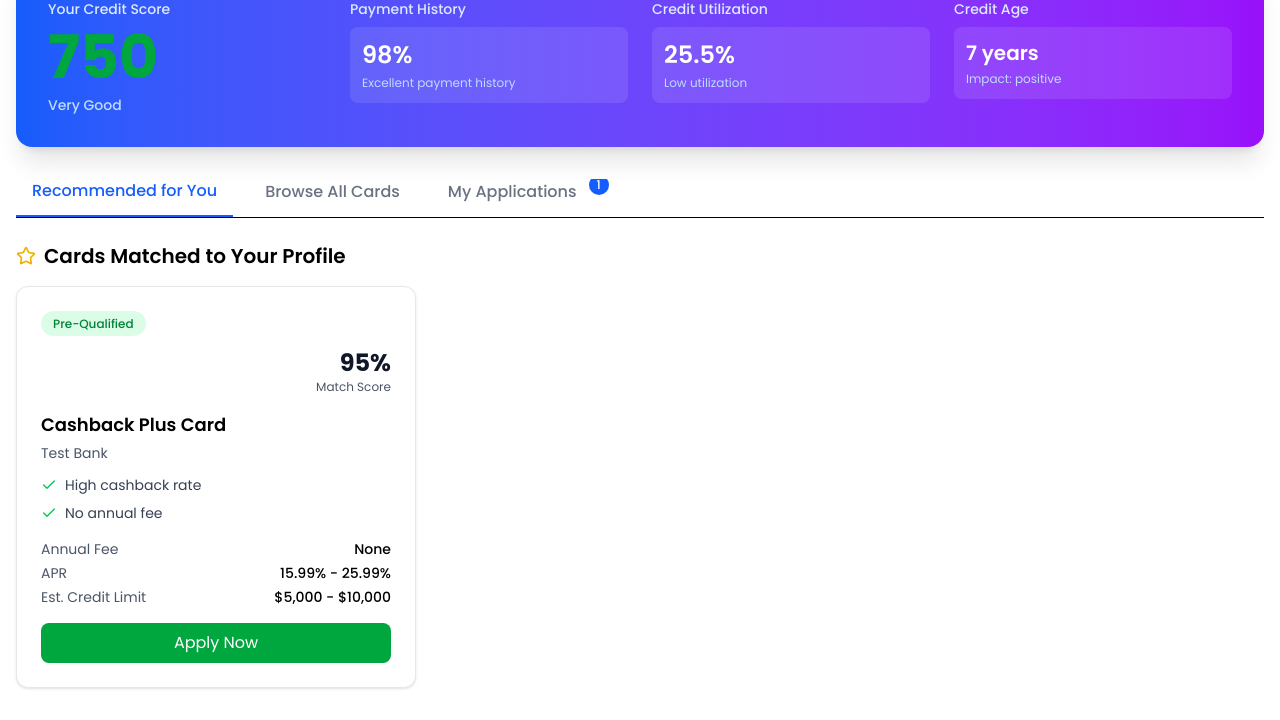
Test: CreditCardsPage › application modal opens and closes
The width and height of the screenshot is (1280, 720).
(page scrolled)
Click the button "Apply Now" at (216, 643), box left=41, top=623, right=391, bottom=663
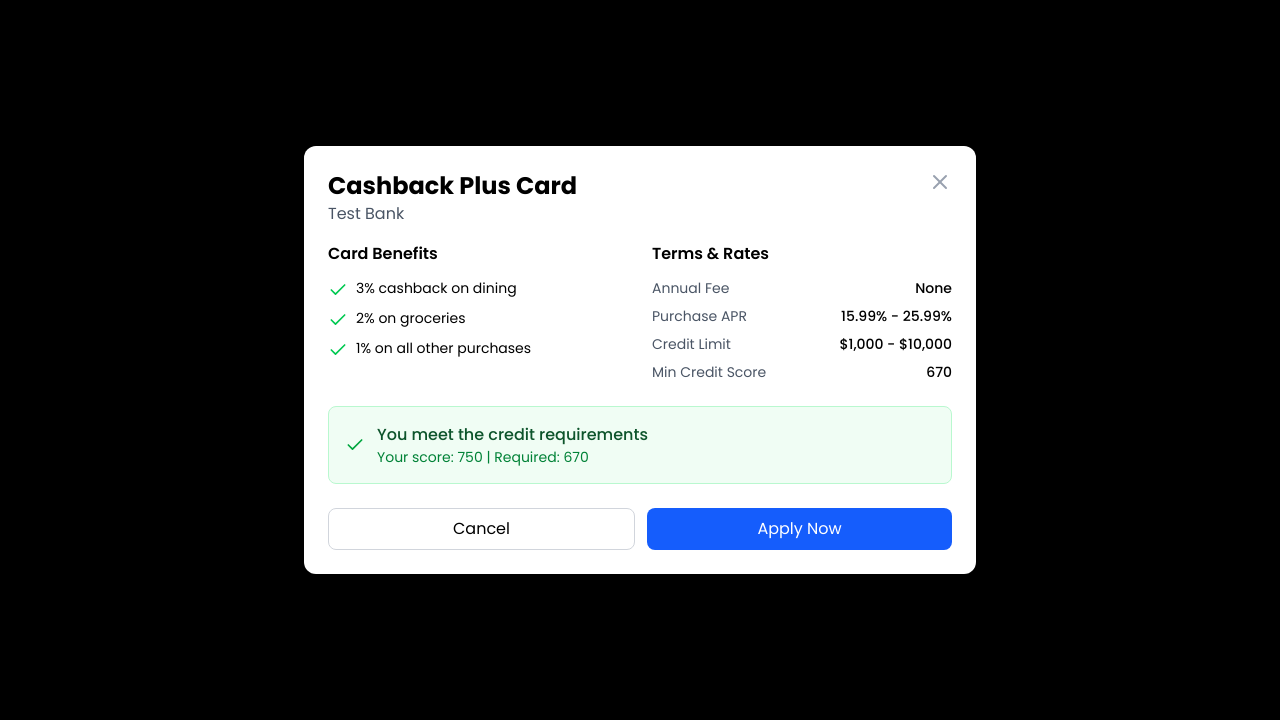
Now the heading "Card Benefits" is shown, box left=328, top=242, right=438, bottom=265
Now the heading "Terms & Rates" is shown, box left=652, top=242, right=769, bottom=265
# Close modal
Click the button "Cancel" at (482, 529), box left=328, top=508, right=635, bottom=550
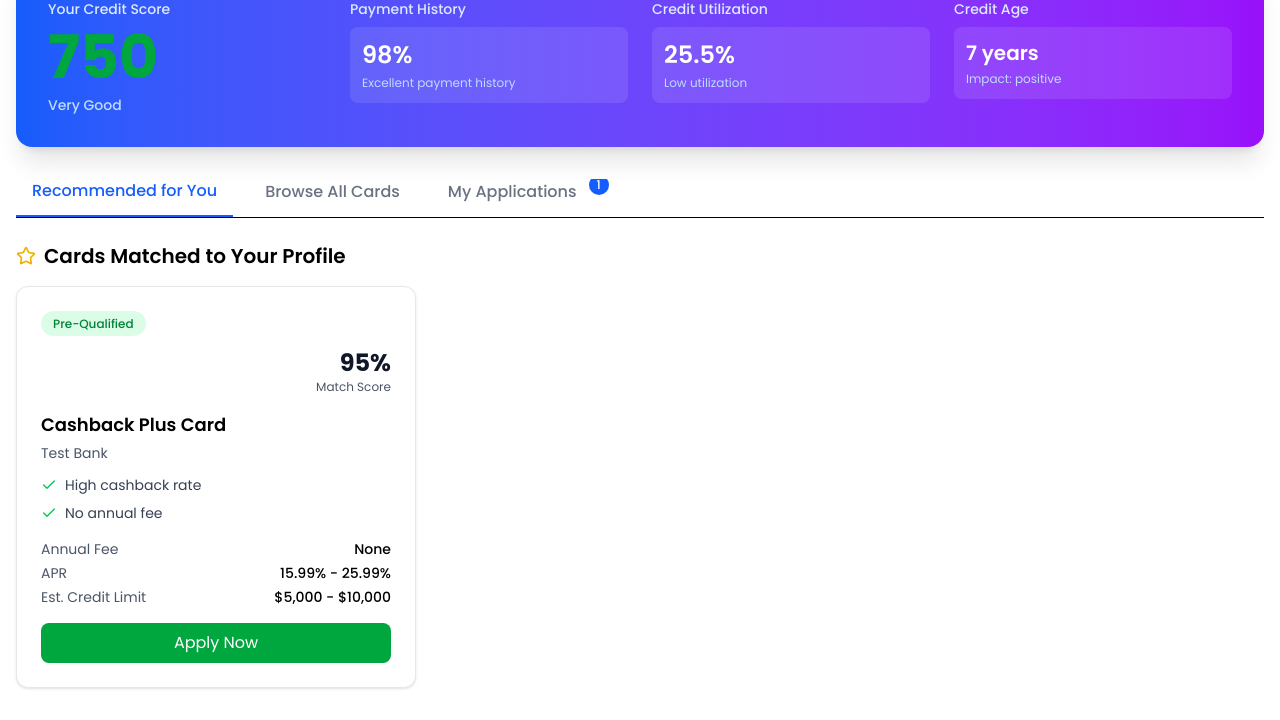
Now the heading "Card Benefits" is gone
